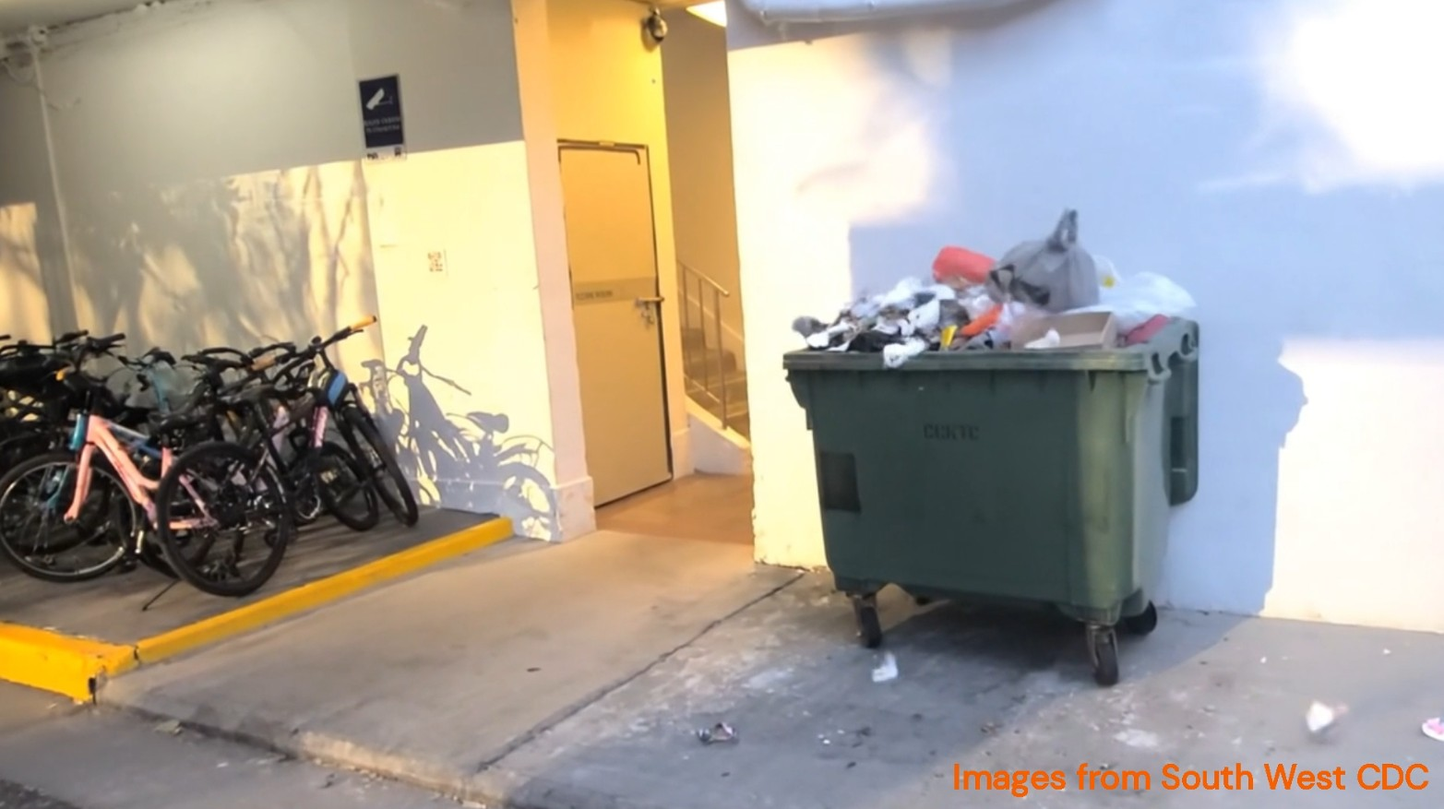bin_full: (783, 209, 1199, 684)
